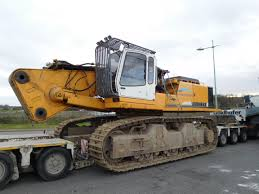excavator: (13, 44, 219, 167)
